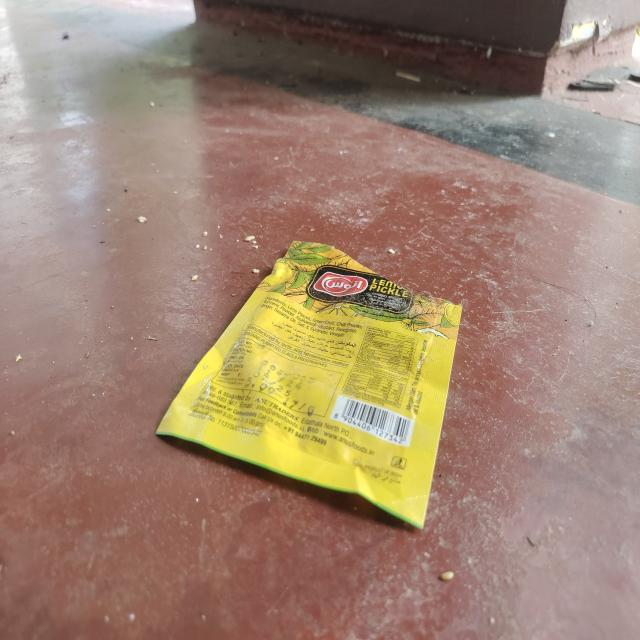plastic: (155, 236, 464, 529)
